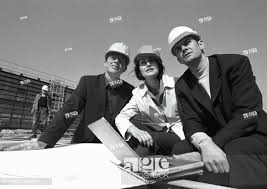Person_wearing_helmet: (166, 21, 200, 53), (100, 38, 132, 61)
